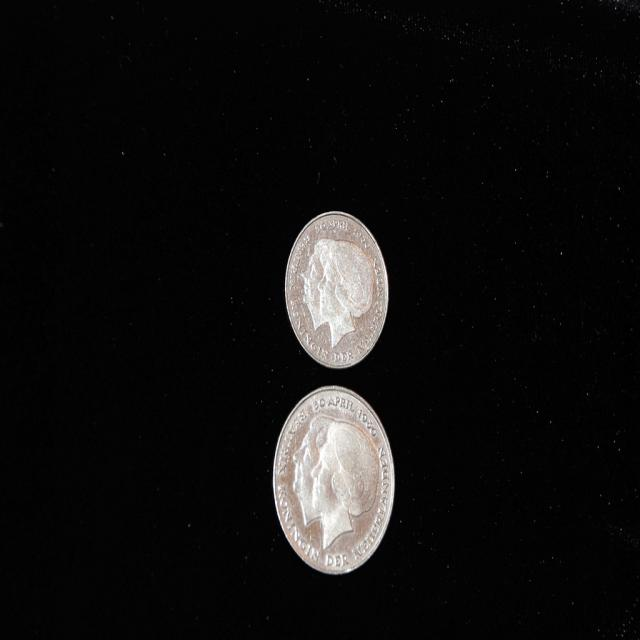Coin: (270, 384, 397, 572), (283, 213, 387, 375)
